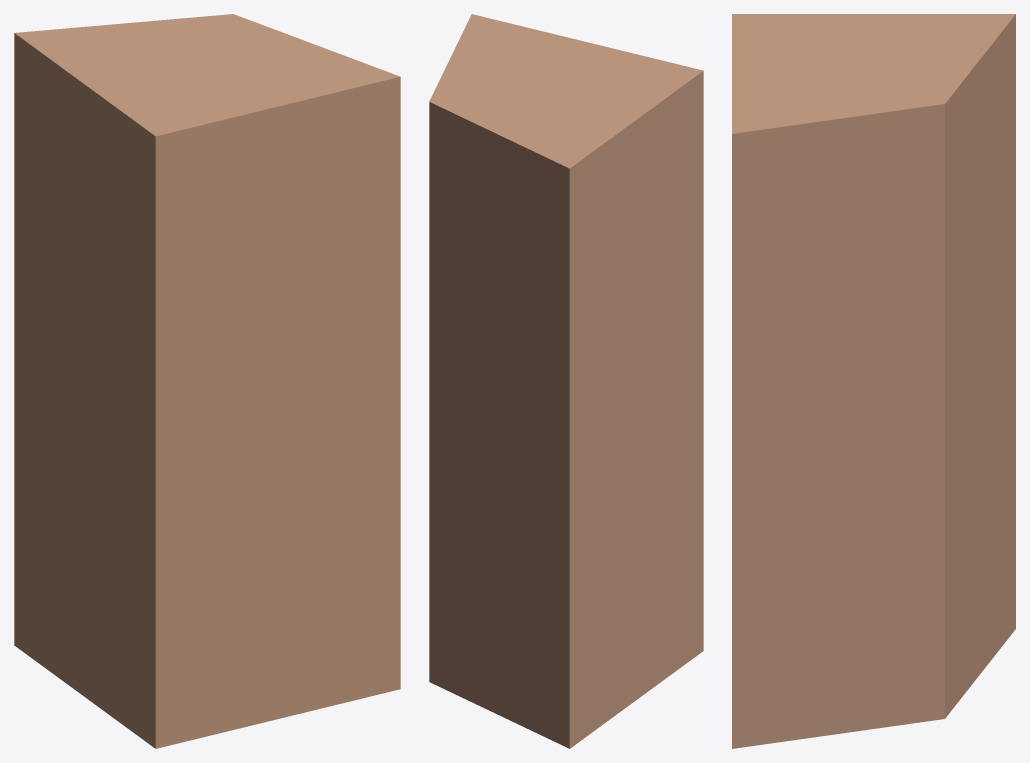
Rendered from cliff_cornerLarge_rock.glb.
3 views of the same model, side by side, from view 1: azimuth 30°, elevation 25°; view 2: azimuth 150°, elevation 25°; view 3: azimuth 270°, elevation 25° (orthographic). The views are drawn at different scales.
Parts seen in each view (by area): view 1: cliff_cornerLarge_rock; view 2: cliff_cornerLarge_rock; view 3: cliff_cornerLarge_rock.
Part boxes in pixels (x1,y1,x2,y2): cliff_cornerLarge_rock: (14,14,400,748); cliff_cornerLarge_rock: (429,14,703,748); cliff_cornerLarge_rock: (732,14,1015,748).
Size of the model in its own units: 0.4185 by 1 by 0.4185.
